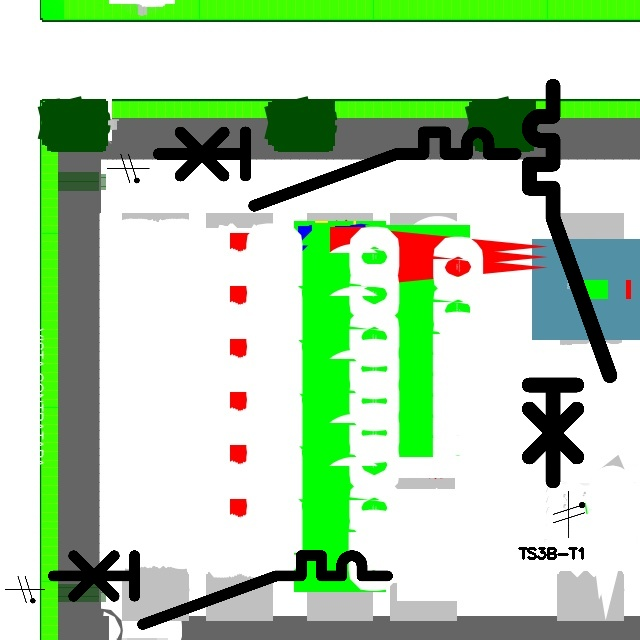interruptor_termomagnetico: (519, 76, 620, 491), (149, 123, 525, 215), (44, 547, 395, 633)
